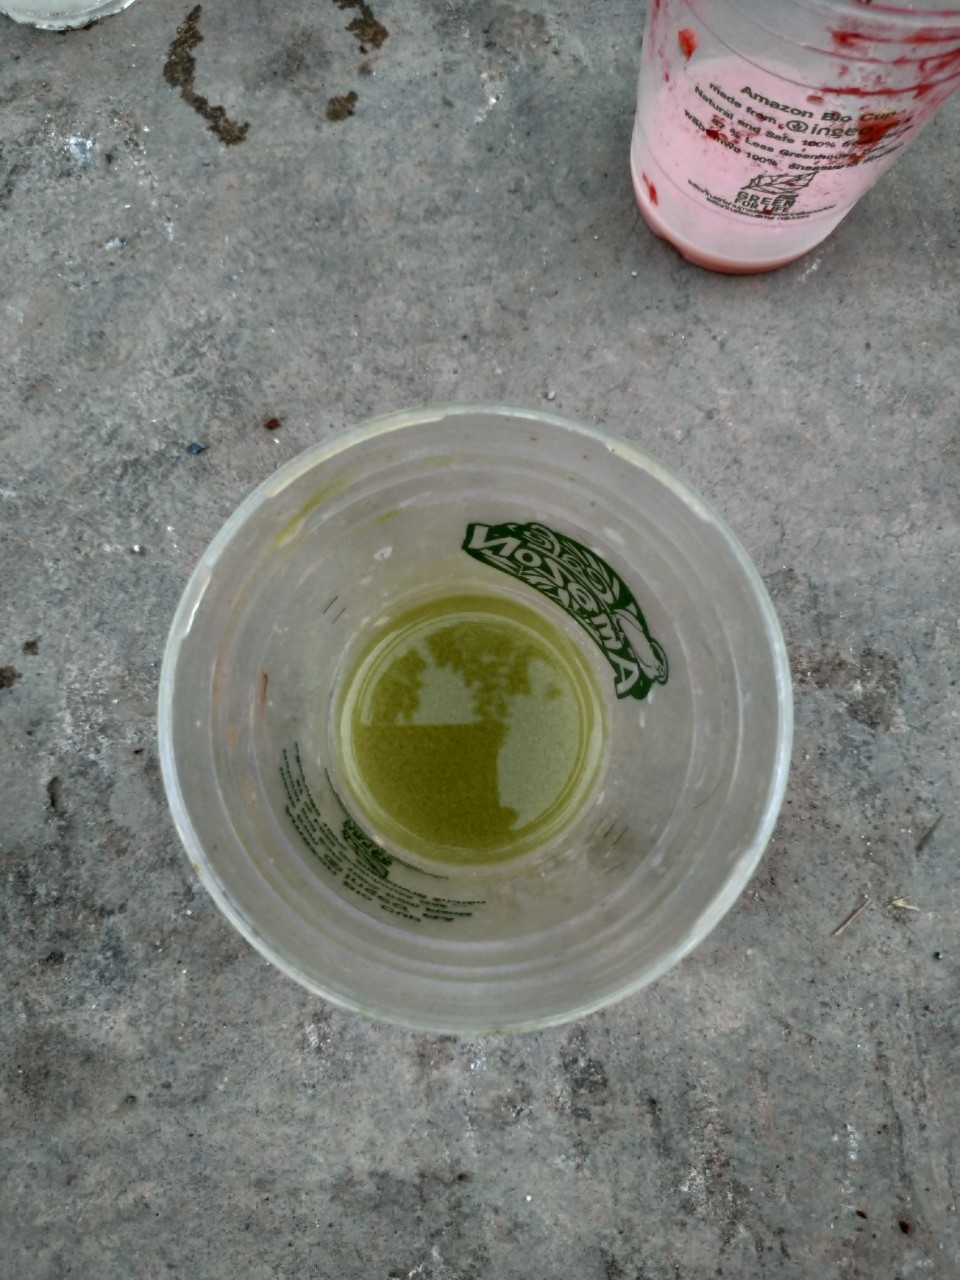PlasticCup: (161, 406, 797, 1051), (595, 9, 960, 277)
